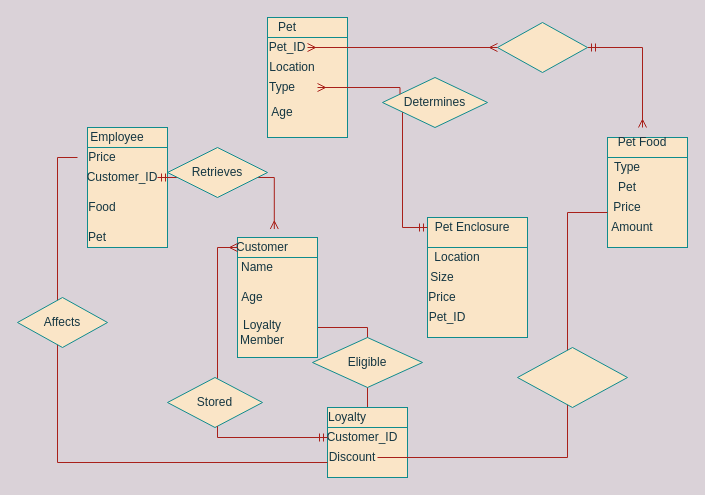
Image size: 705x495. Some labels were removed from this diagram. Here are the shapes that lost their labels. From the top down, the centre of each, then its label:
point (542, 47): Eats
point (572, 377): Discounts
